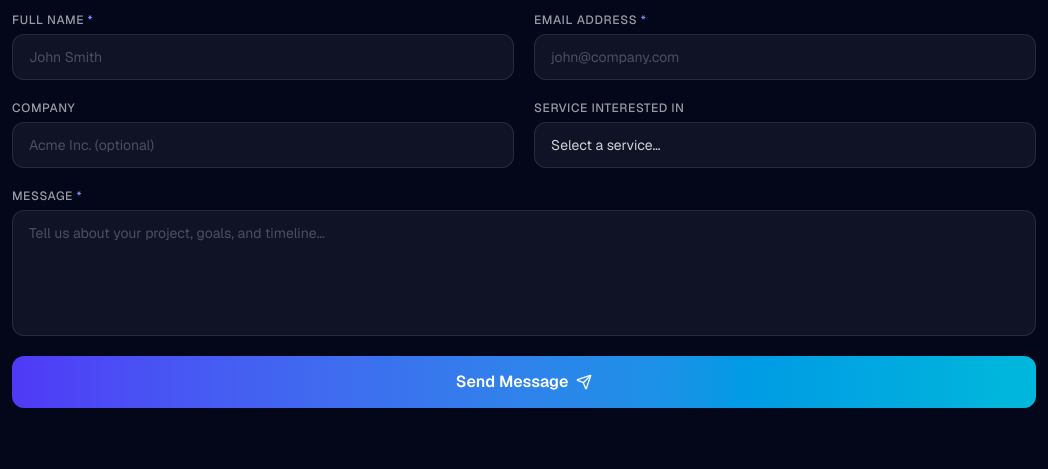
ContactForm › clears field error when user starts typing
The image size is (1048, 469).
Click the button "Send Message" at {"x": 524, "y": 382}, box [12, 356, 1036, 408]
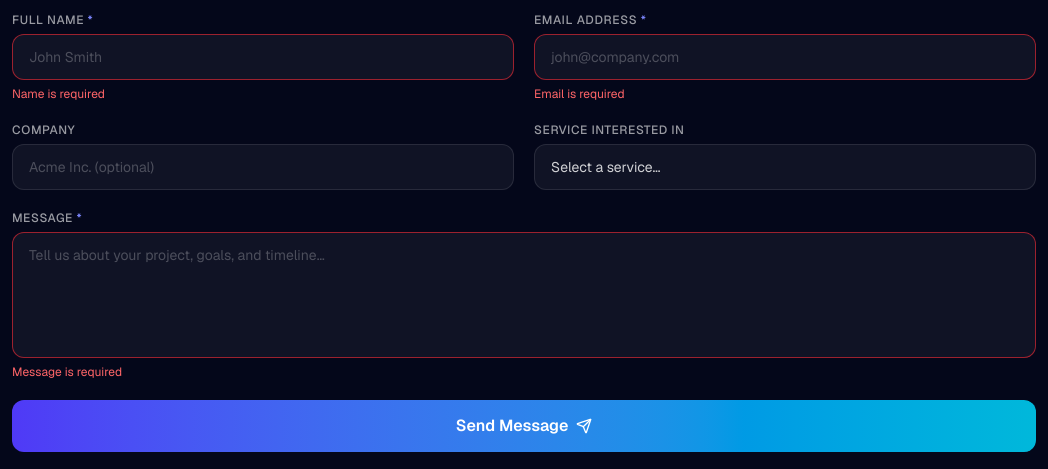
Result: the text "Name is required" is shown at [12, 86, 105, 102]
Type "Alice" into the field with placeholder "John Smith" at {"x": 263, "y": 57}, box [12, 34, 514, 80]
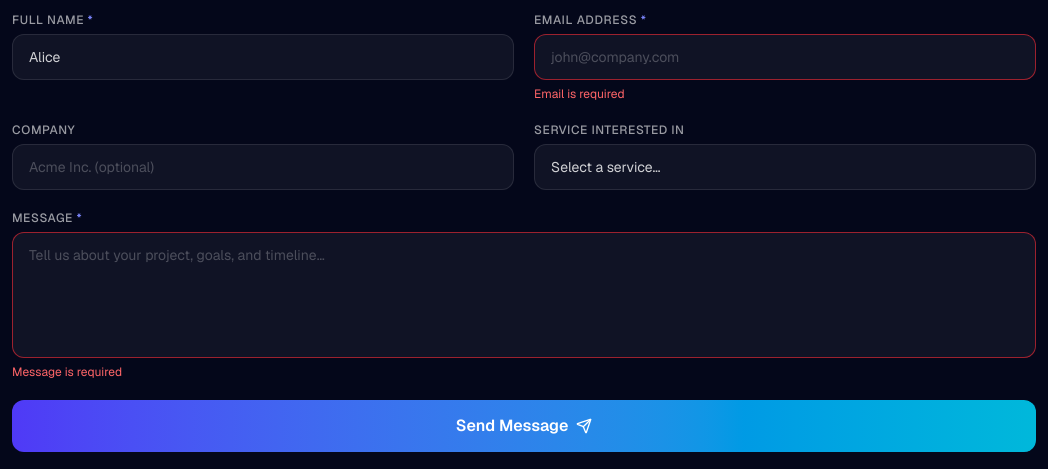
Result: the text "Name is required" is gone
